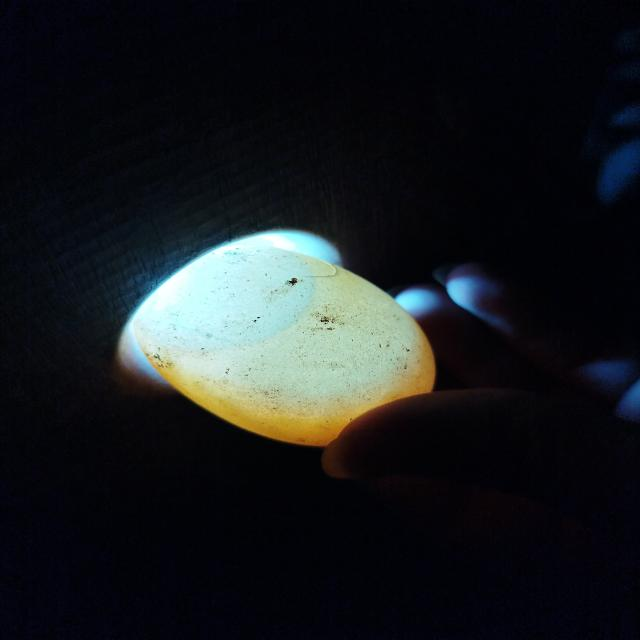Camara de Ar: (136, 247, 311, 353)
Gema Quebrada: (148, 321, 436, 444)
